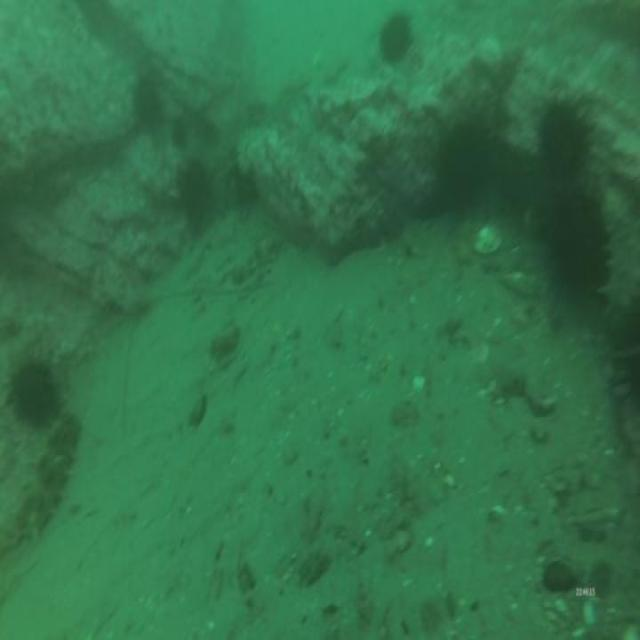echinus: (544, 190, 612, 308), (528, 93, 598, 191), (435, 116, 493, 217), (5, 352, 64, 433), (612, 286, 640, 424), (376, 8, 416, 71), (178, 155, 210, 226), (130, 68, 162, 128), (168, 114, 188, 150)
holothurian: (4, 409, 82, 545)
